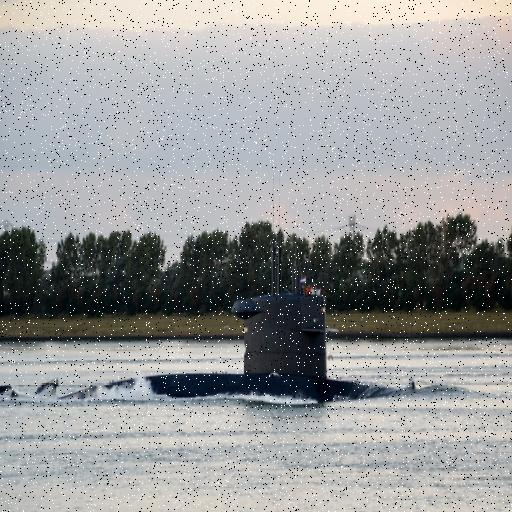submarine: (132, 279, 412, 400)
